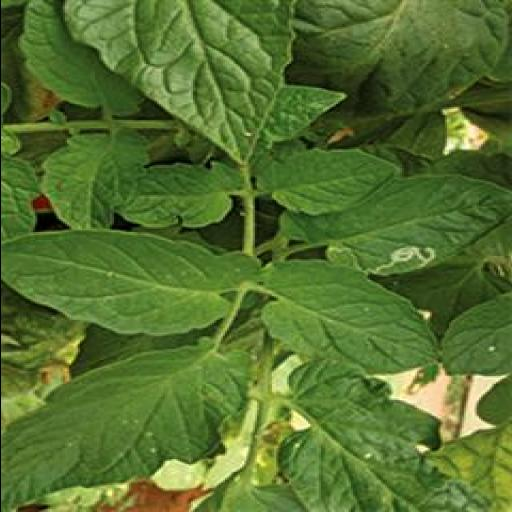Healthy: (0, 222, 266, 337), (252, 258, 440, 374), (258, 149, 402, 217), (92, 163, 238, 230)
Leaf Miner: (314, 172, 512, 278)
